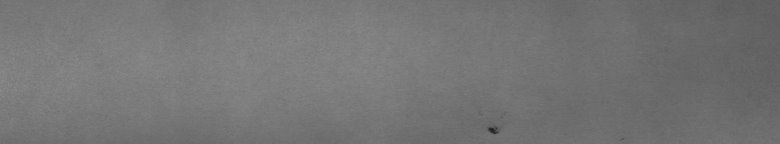fi: (484, 116, 504, 136)
